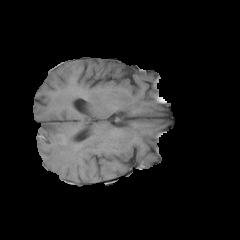glioma: (37, 97, 127, 177)
